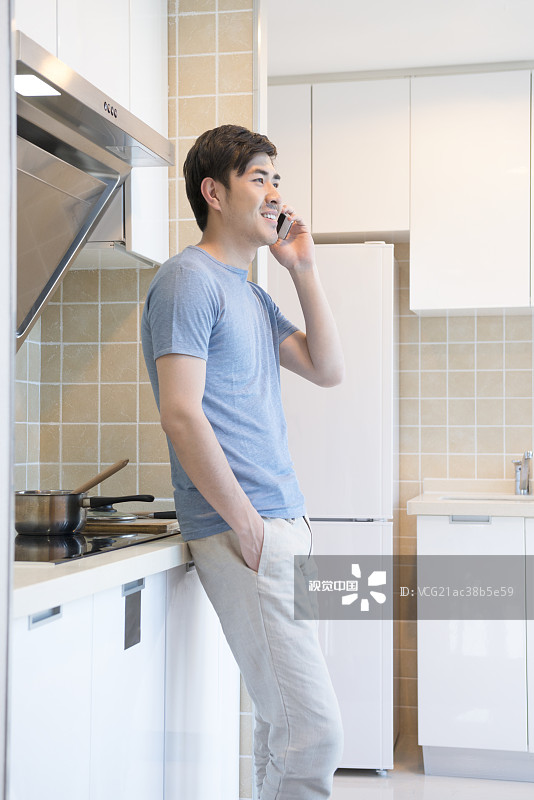calling: (250, 183, 332, 282)
